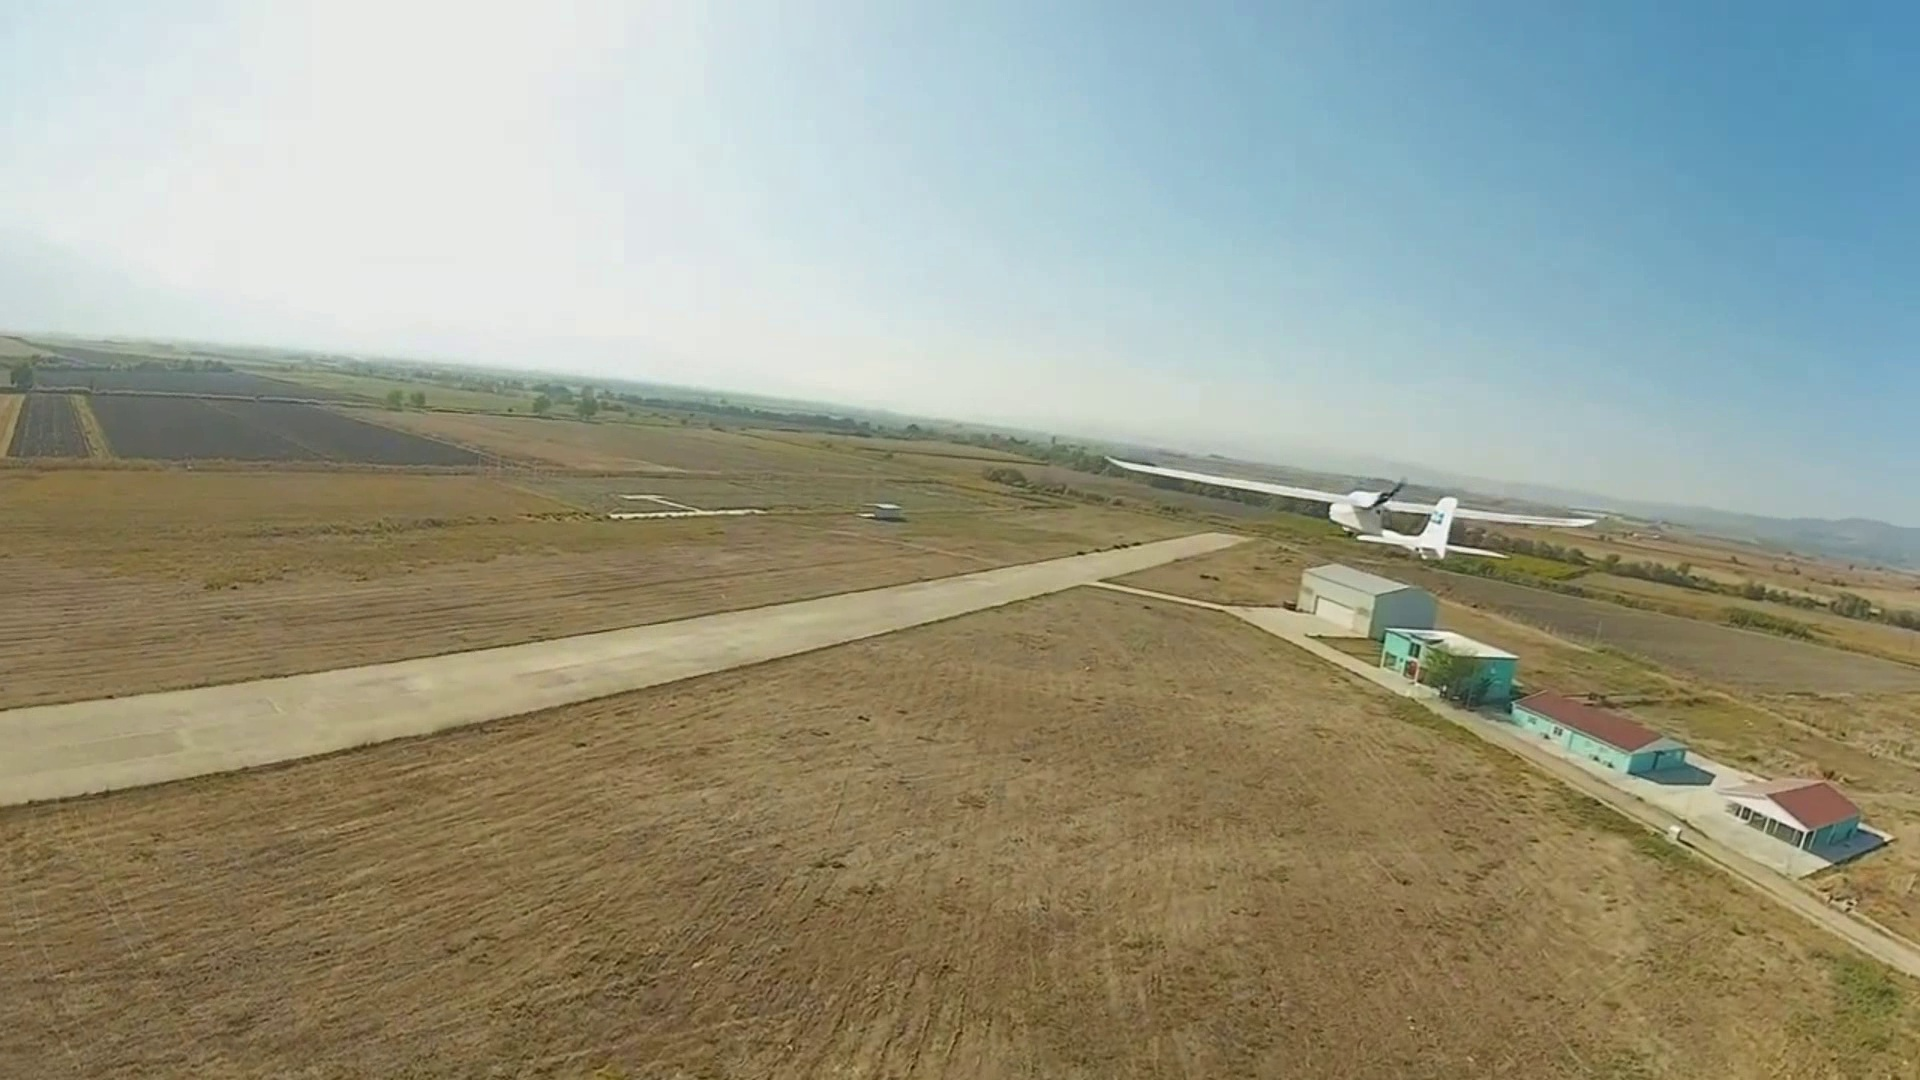airplane: (1092, 444, 1607, 554)
